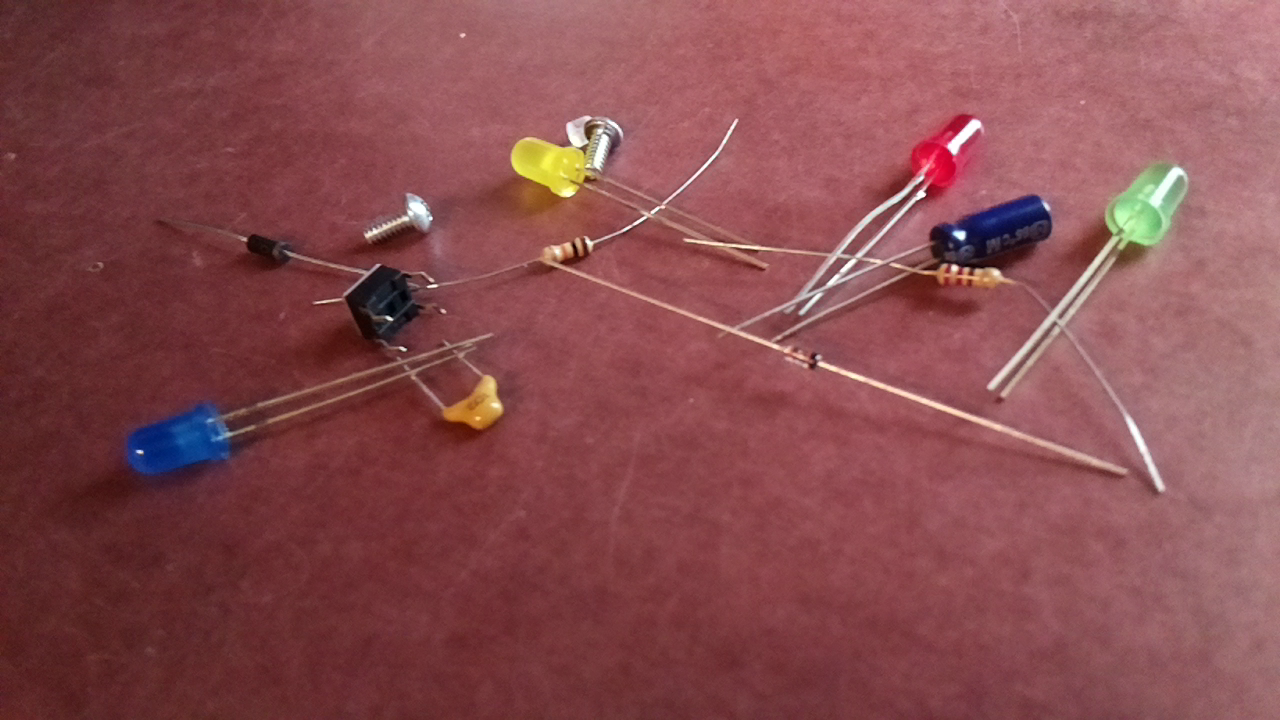button: (341, 262, 422, 346)
capacitor: (929, 190, 1059, 271), (433, 368, 510, 436)
diode: (242, 230, 295, 270), (775, 341, 826, 375)
led: (121, 398, 236, 482), (1104, 160, 1191, 251), (909, 114, 988, 190), (504, 134, 589, 203)
resistor: (933, 259, 1007, 295), (537, 233, 597, 267)
